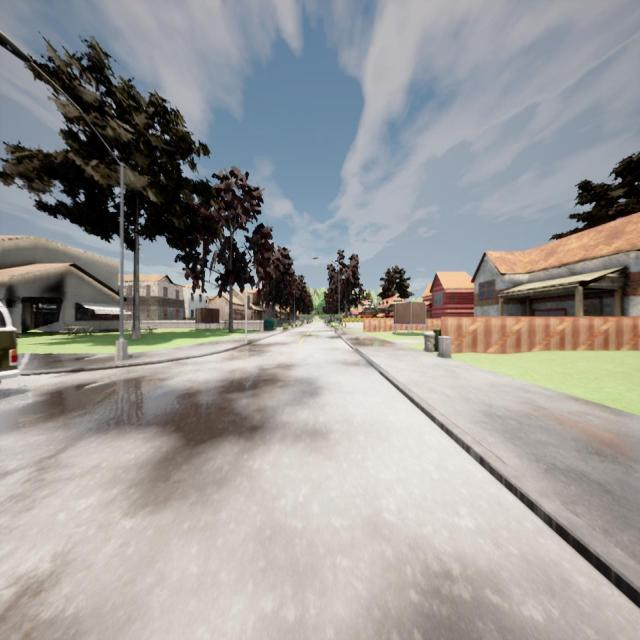Vehicle: (0, 295, 21, 381)
traffic_light: (247, 295, 250, 309)
